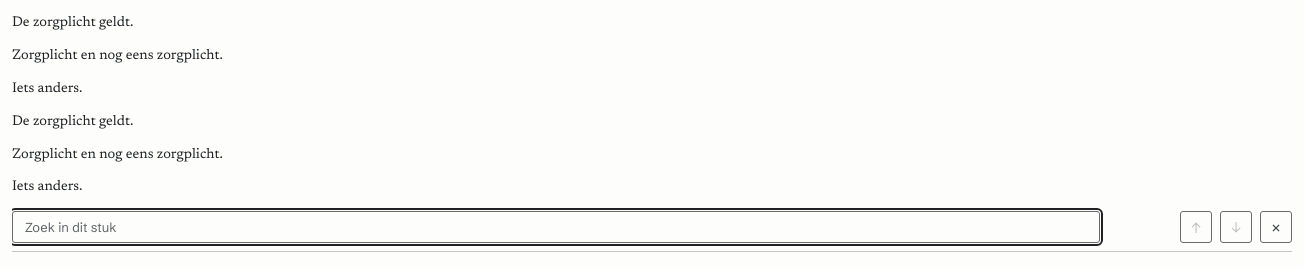
Test case: SearchInText › says when nothing is found, and says nothing for one letter
The image size is (1304, 269).
Type "z" into the search field at (556, 227), box [12, 211, 1100, 243]
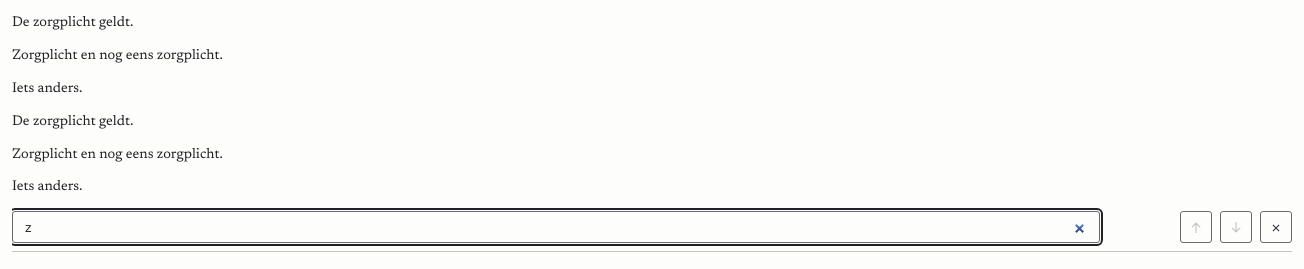
Replace the text in the search field with "onvindbaar" at (556, 227), box [12, 211, 1100, 243]
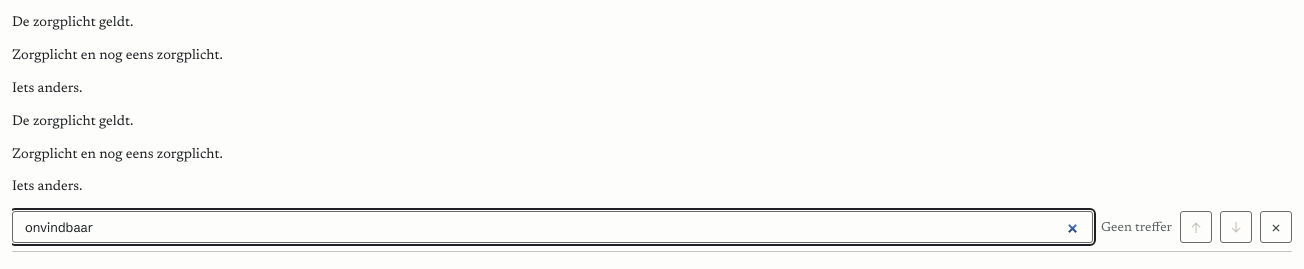
Expected: the message reads "Geen treffer", [1101, 221, 1172, 234]
